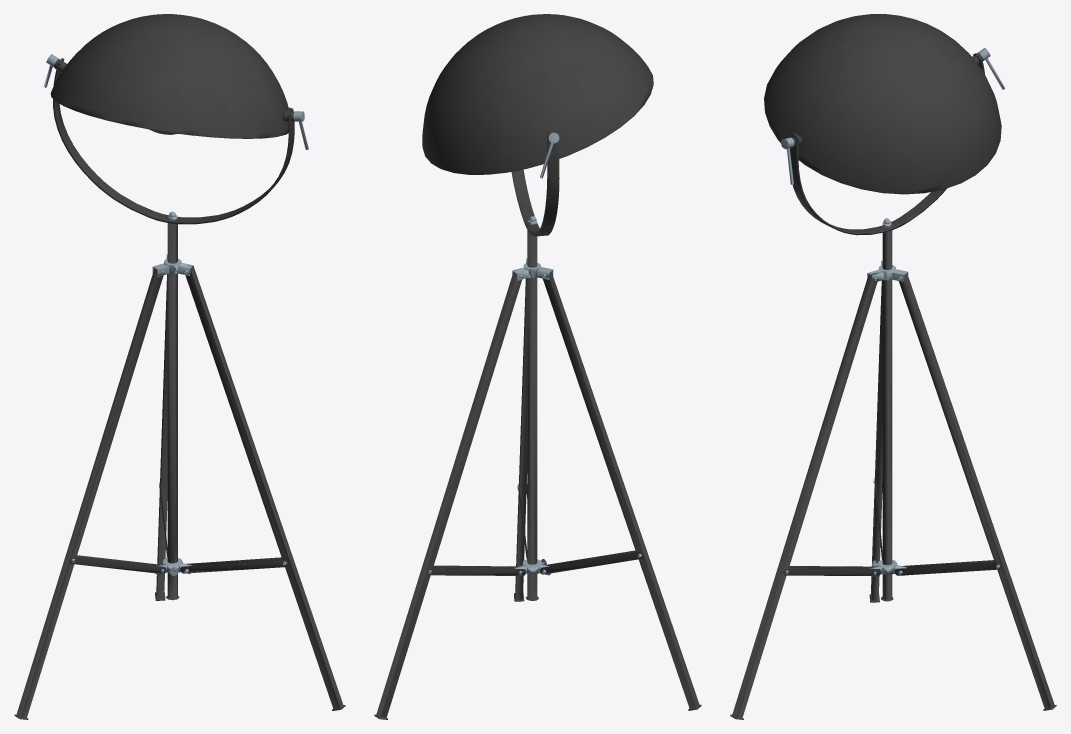
The model's file is floor_lamp_mario_milanovic.glb.
The picture shows the model from 3 angles, left to right: view 1: azimuth 30°, elevation 25°; view 2: azimuth 150°, elevation 25°; view 3: azimuth 270°, elevation 25°; orthographic projection.
Visible parts, largest first — view 1: defaultMaterial (×2); view 2: defaultMaterial (×2); view 3: defaultMaterial (×2).
Part boxes in pixels (x1,y1,x2,y2): defaultMaterial (×2): (14, 14, 345, 719); defaultMaterial (×2): (374, 14, 701, 719); defaultMaterial (×2): (730, 14, 1056, 719).
Size of what is drawn, in the model's own units: 0.8338 by 2 by 0.9158.
5 materials, 3 textured.
